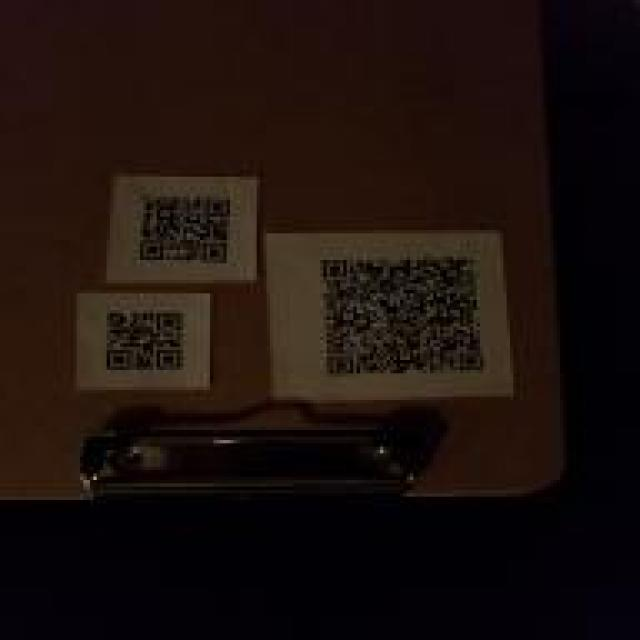qr_code: (320, 258, 483, 376), (139, 196, 231, 264), (105, 312, 183, 372)
